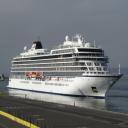cruises: (7, 33, 125, 102)
